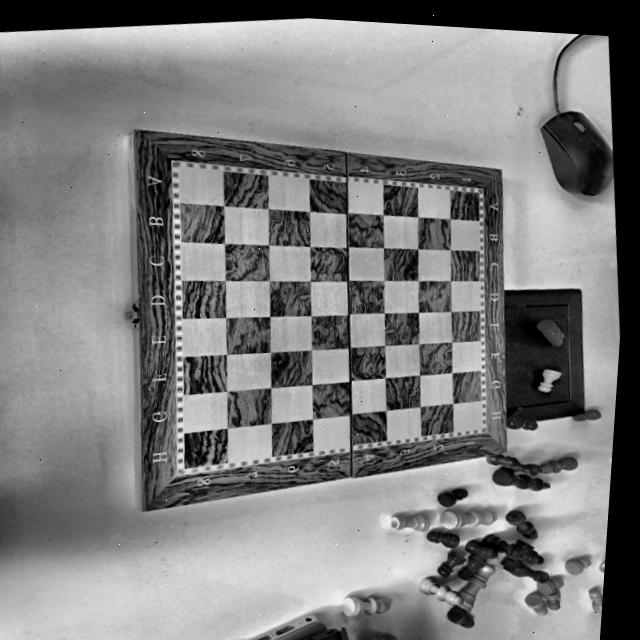chessboard: (133, 130, 505, 511)
